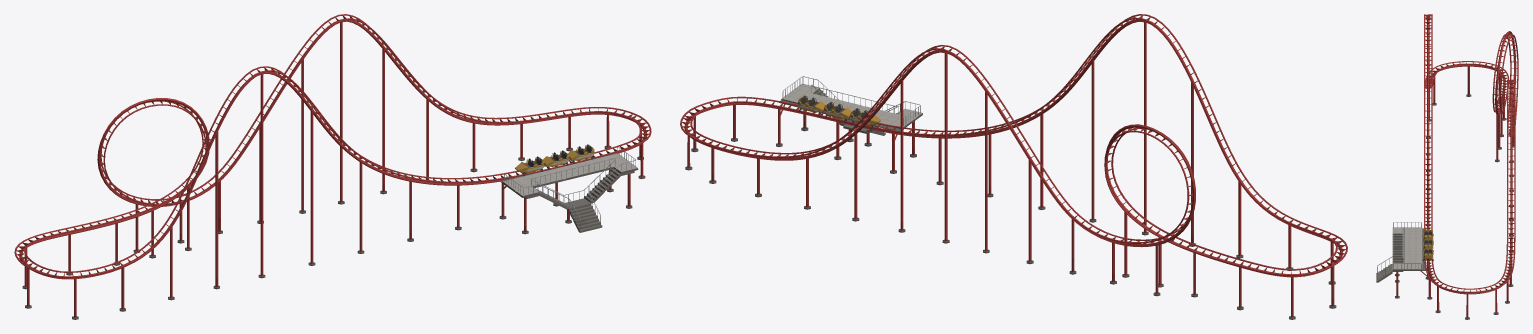
The model's file is SM_Bldg_City_AmusementPark_RollerCoaster_02.fbx.
3 renders of one model, left to right at view 1: azimuth 30°, elevation 25°; view 2: azimuth 150°, elevation 25°; view 3: azimuth 270°, elevation 25°, orthographic. The views are drawn at different scales.
Visible parts, largest first — view 1: SM_Bldg_City_AmusementPark_RollerCoaster_02; view 2: SM_Bldg_City_AmusementPark_RollerCoaster_02; view 3: SM_Bldg_City_AmusementPark_RollerCoaster_02.
Boxes of the visible parts, x1,y1,x2,y2 form: SM_Bldg_City_AmusementPark_RollerCoaster_02: [14, 14, 651, 319]; SM_Bldg_City_AmusementPark_RollerCoaster_02: [680, 14, 1347, 319]; SM_Bldg_City_AmusementPark_RollerCoaster_02: [1376, 14, 1518, 319].
Bounding box in the file's own units: 6459 × 2065 × 1716.
